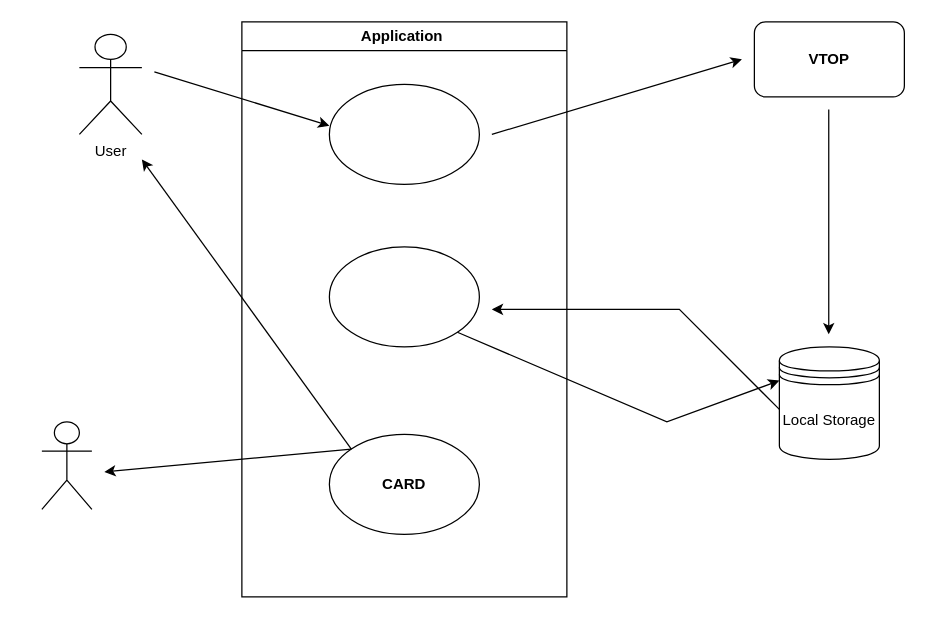
This 926x619 diagram has some shape labels left out. The shapes that lost their labels are listed below. From the top down, each one's centre as x and y in pixels, then its label:
At pixel 403 133: "Login".
At pixel 403 296: "Card Generator".
At pixel 66 465: "Management".
